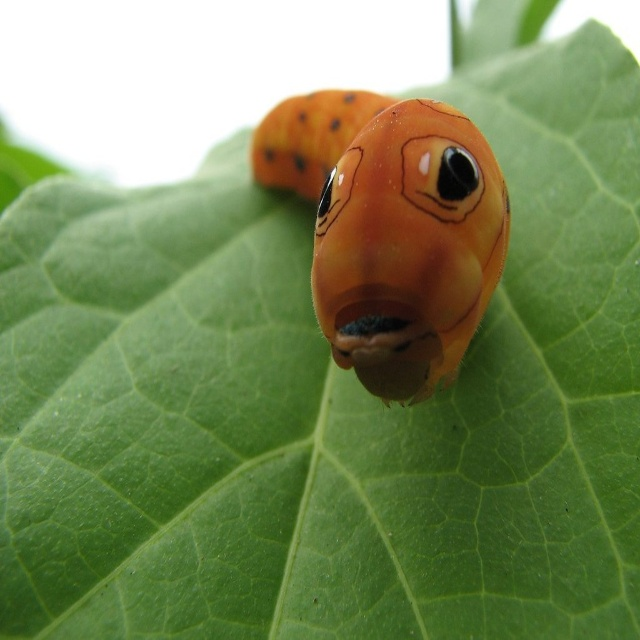Caterpillar: (249, 89, 511, 414)
